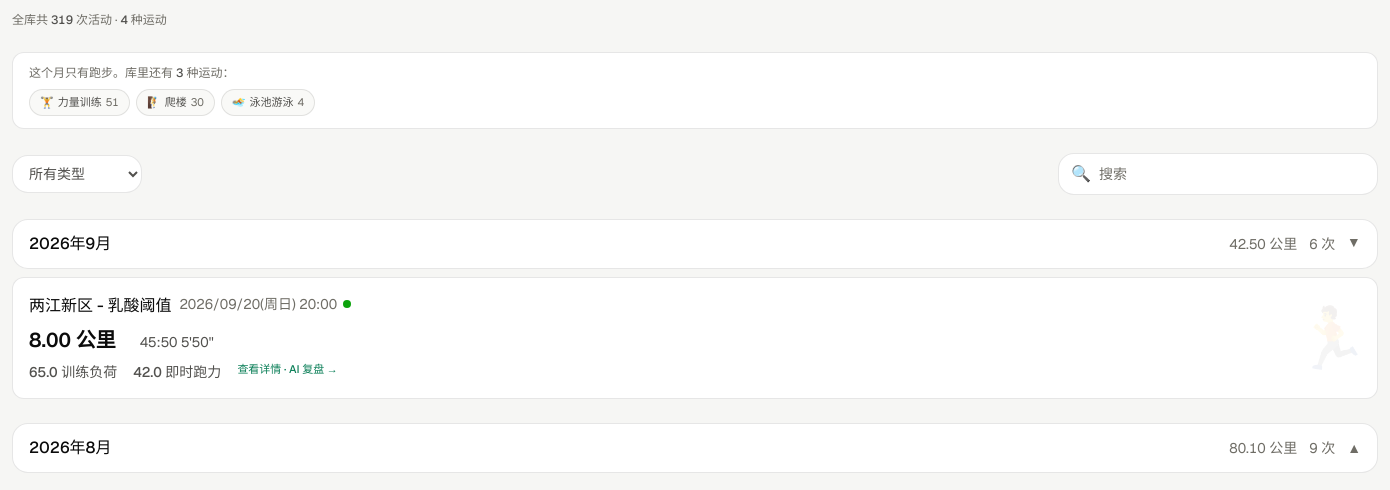
Test: ListClient 活动列表 (交互/筛选/无限滚动) › 本月只有跑步 → 其他运动快捷入口 › 点 chip → 按该类型重新拉取月度汇总（服务端过滤 + 自动展开首月）
This screenshot has width=1390, height=490.
Click the button "🏋️ 力量训练 51" at (79, 102), box [29, 89, 130, 116]
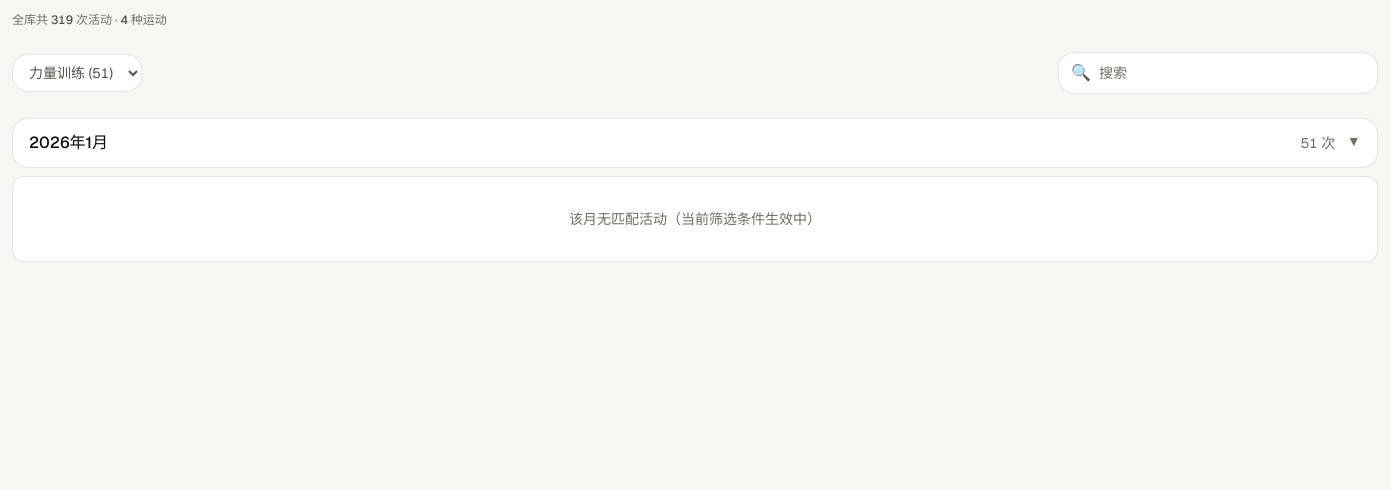
Result: the dropdown named "活动类型筛选" shows "力量训练 (51)" at [12, 54, 142, 92]
